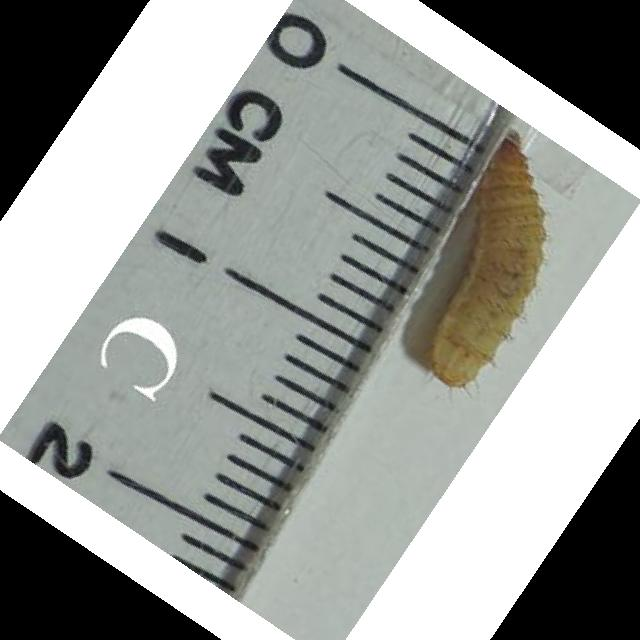Maggot: (430, 131, 552, 396)
